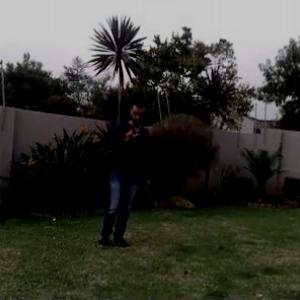land_hand: (116, 116, 141, 146)
